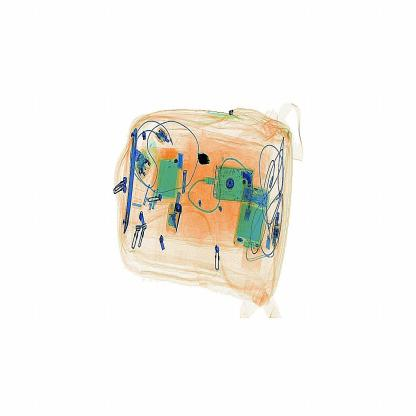scissors: (189, 144, 214, 168)
